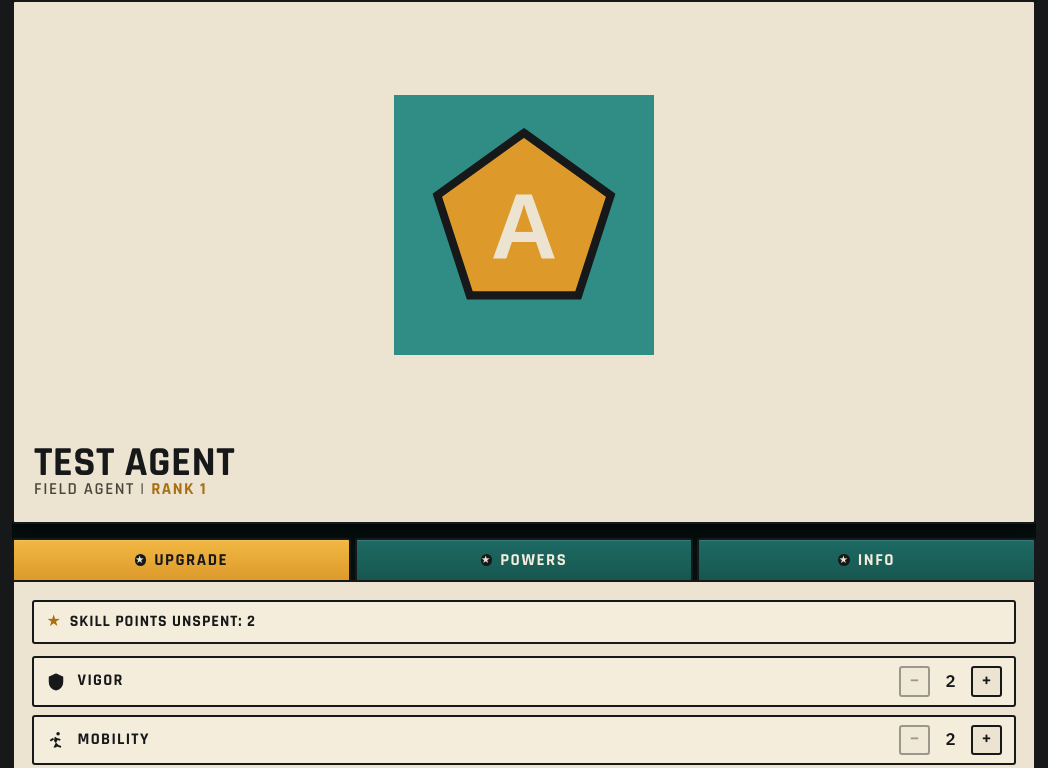
Test: CharacterSheet - staged stat allocation › RESET clears all staged points
Click the button named "Increase Vigor": (986, 682) [971,666,1002,697]
(page scrolled)
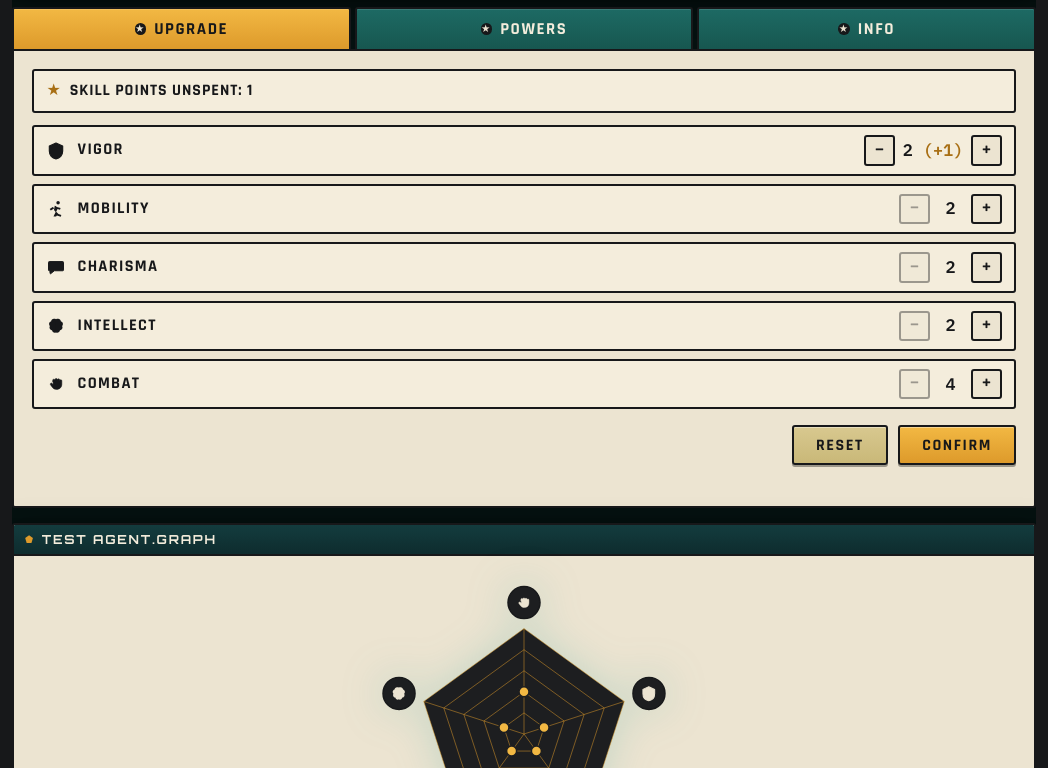
Click the button named "Increase Combat": (986, 384) [971,369,1002,399]
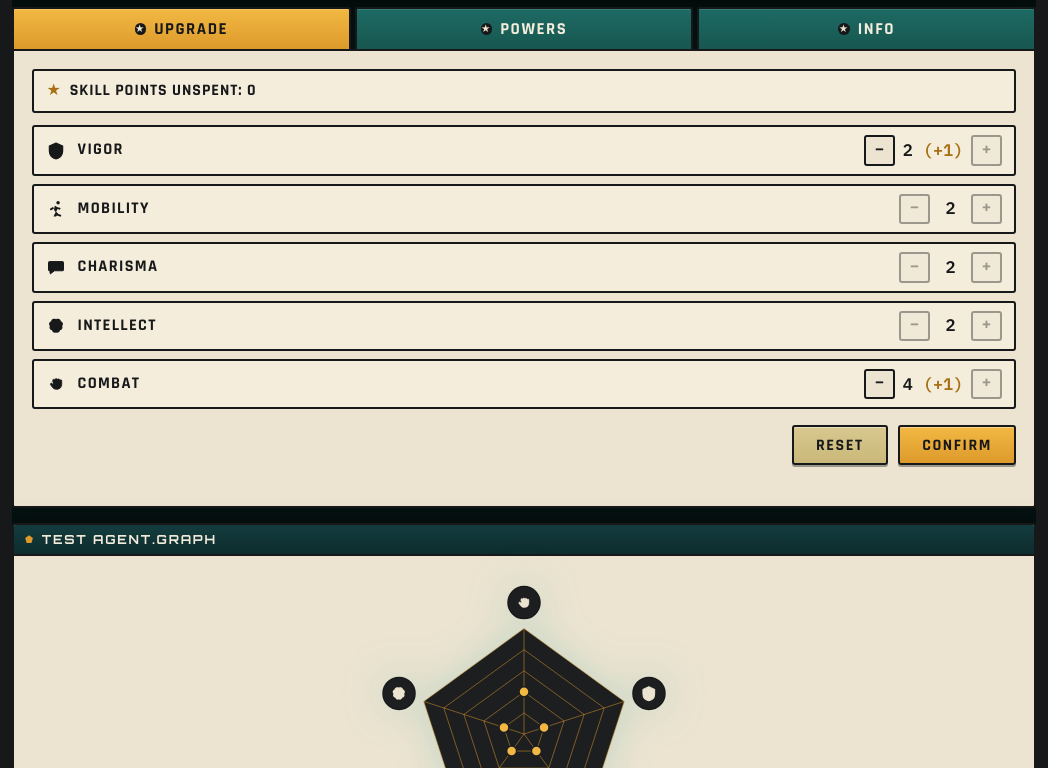
Result: the text "★ SKILL POINTS UNSPENT: 0" is shown at [32,69,1016,113]
Click the button "Reset": (840, 445) [792,425,888,465]
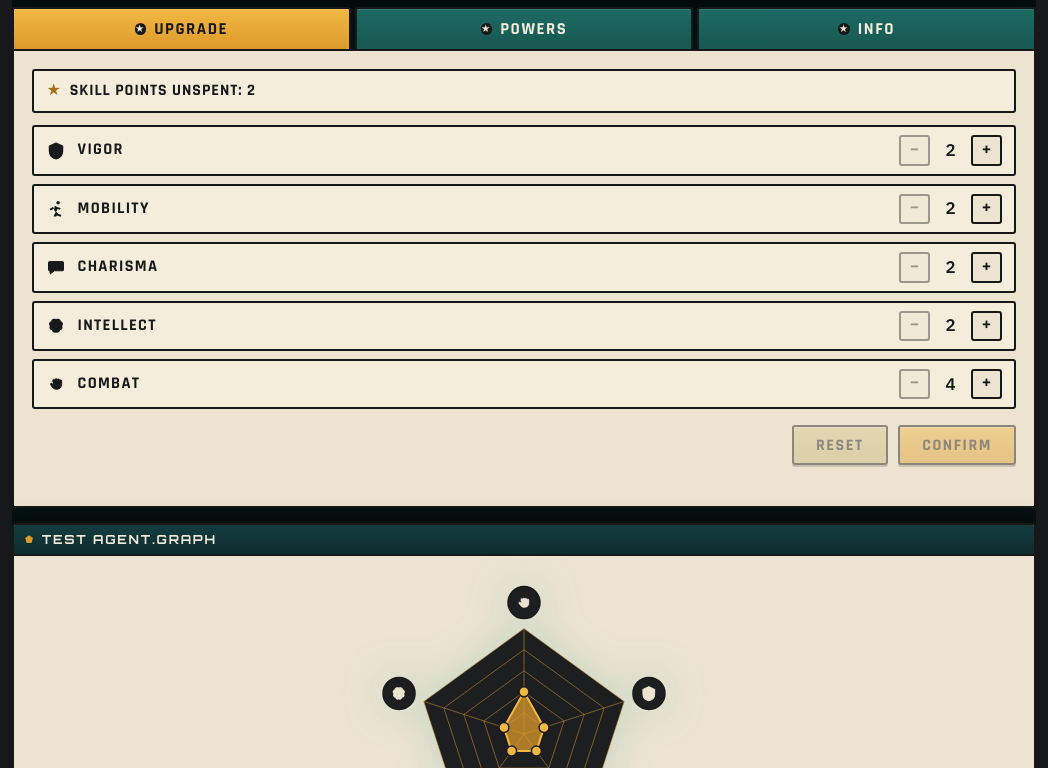
Result: the text "★ SKILL POINTS UNSPENT: 2" is shown at [32,69,1016,113]
